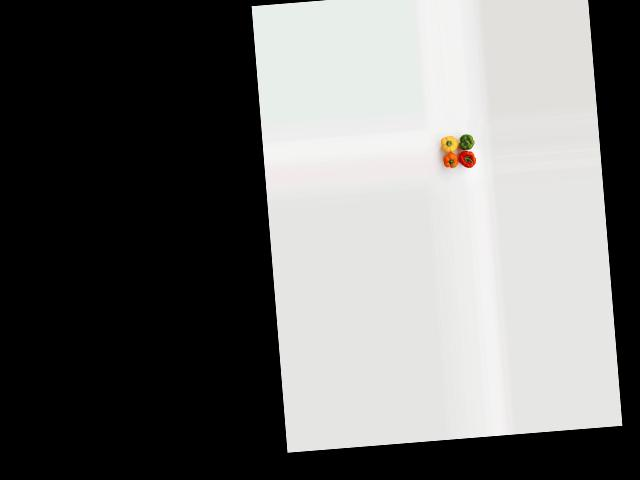bell_pepper: (456, 129, 476, 154)
